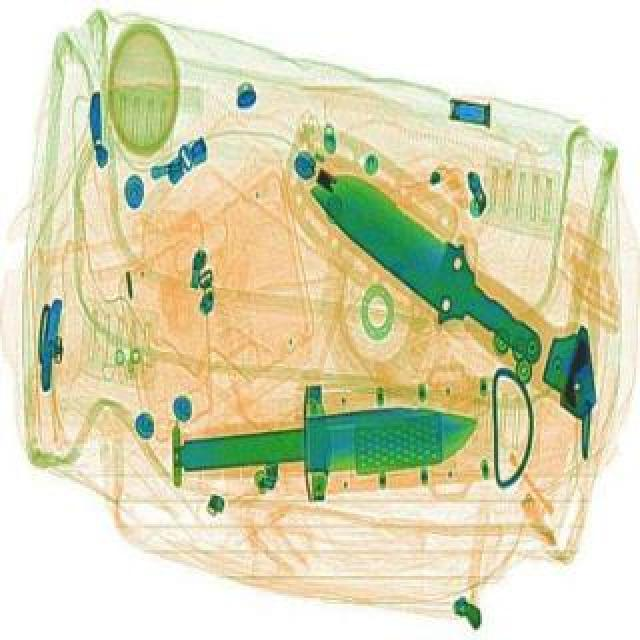knife: (280, 144, 568, 382), (152, 364, 488, 520)
